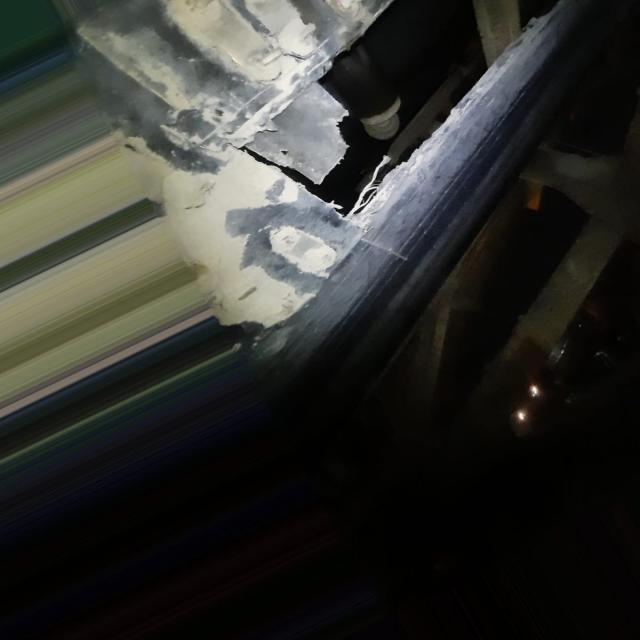Hole: (235, 0, 568, 226)
